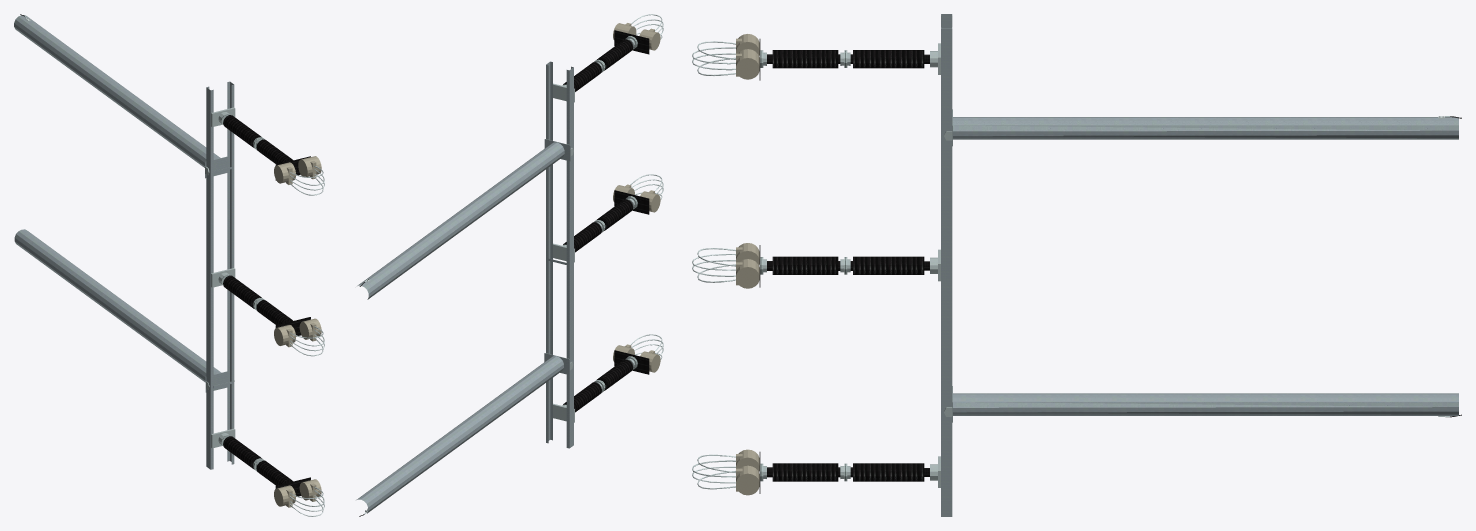
File: ftzbzsb-zzjyz-0160-geode.glb
3 renders of one model, left to right at view 1: azimuth 30°, elevation 25°; view 2: azimuth 150°, elevation 25°; view 3: azimuth 270°, elevation 25°, orthographic. The views are drawn at different scales.
Visible parts, largest first — view 1: Node; view 2: Node; view 3: Node.
Part boxes in pixels (left/top/right/bottom): Node: left=14, top=14, right=324, bottom=516; Node: left=356, top=14, right=663, bottom=516; Node: left=692, top=14, right=1461, bottom=516.
Size of the model in its own units: 0.7498 by 7.08 by 10.12.
Materials: 8 (8 with a texture image).
